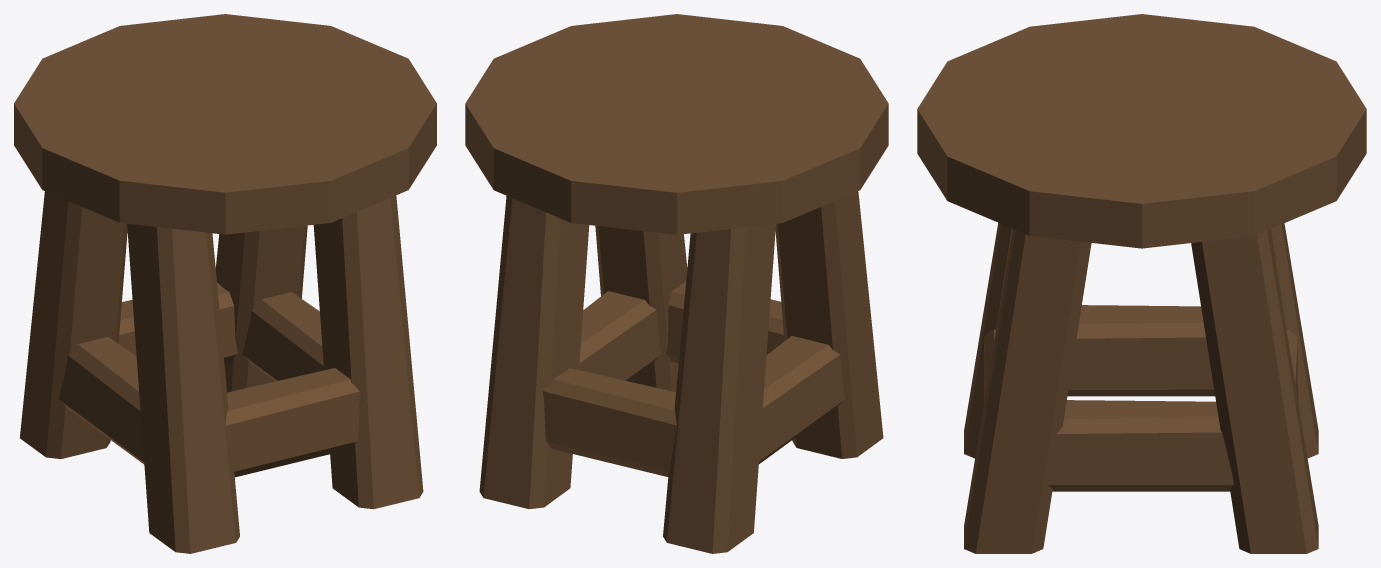
Rendered from Banquito.fbx.
3 renders of one model, left to right at view 1: azimuth 30°, elevation 25°; view 2: azimuth 150°, elevation 25°; view 3: azimuth 270°, elevation 25°, orthographic. The views are drawn at different scales.
Parts seen in each view (by area): view 1: Banquito; view 2: Banquito; view 3: Banquito.
Boxes of the visible parts, x1,y1,x2,y2 form: Banquito: (14, 14, 436, 553); Banquito: (465, 14, 888, 553); Banquito: (917, 14, 1366, 553).
Bounding box in the file's own units: 112 × 105 × 112.
